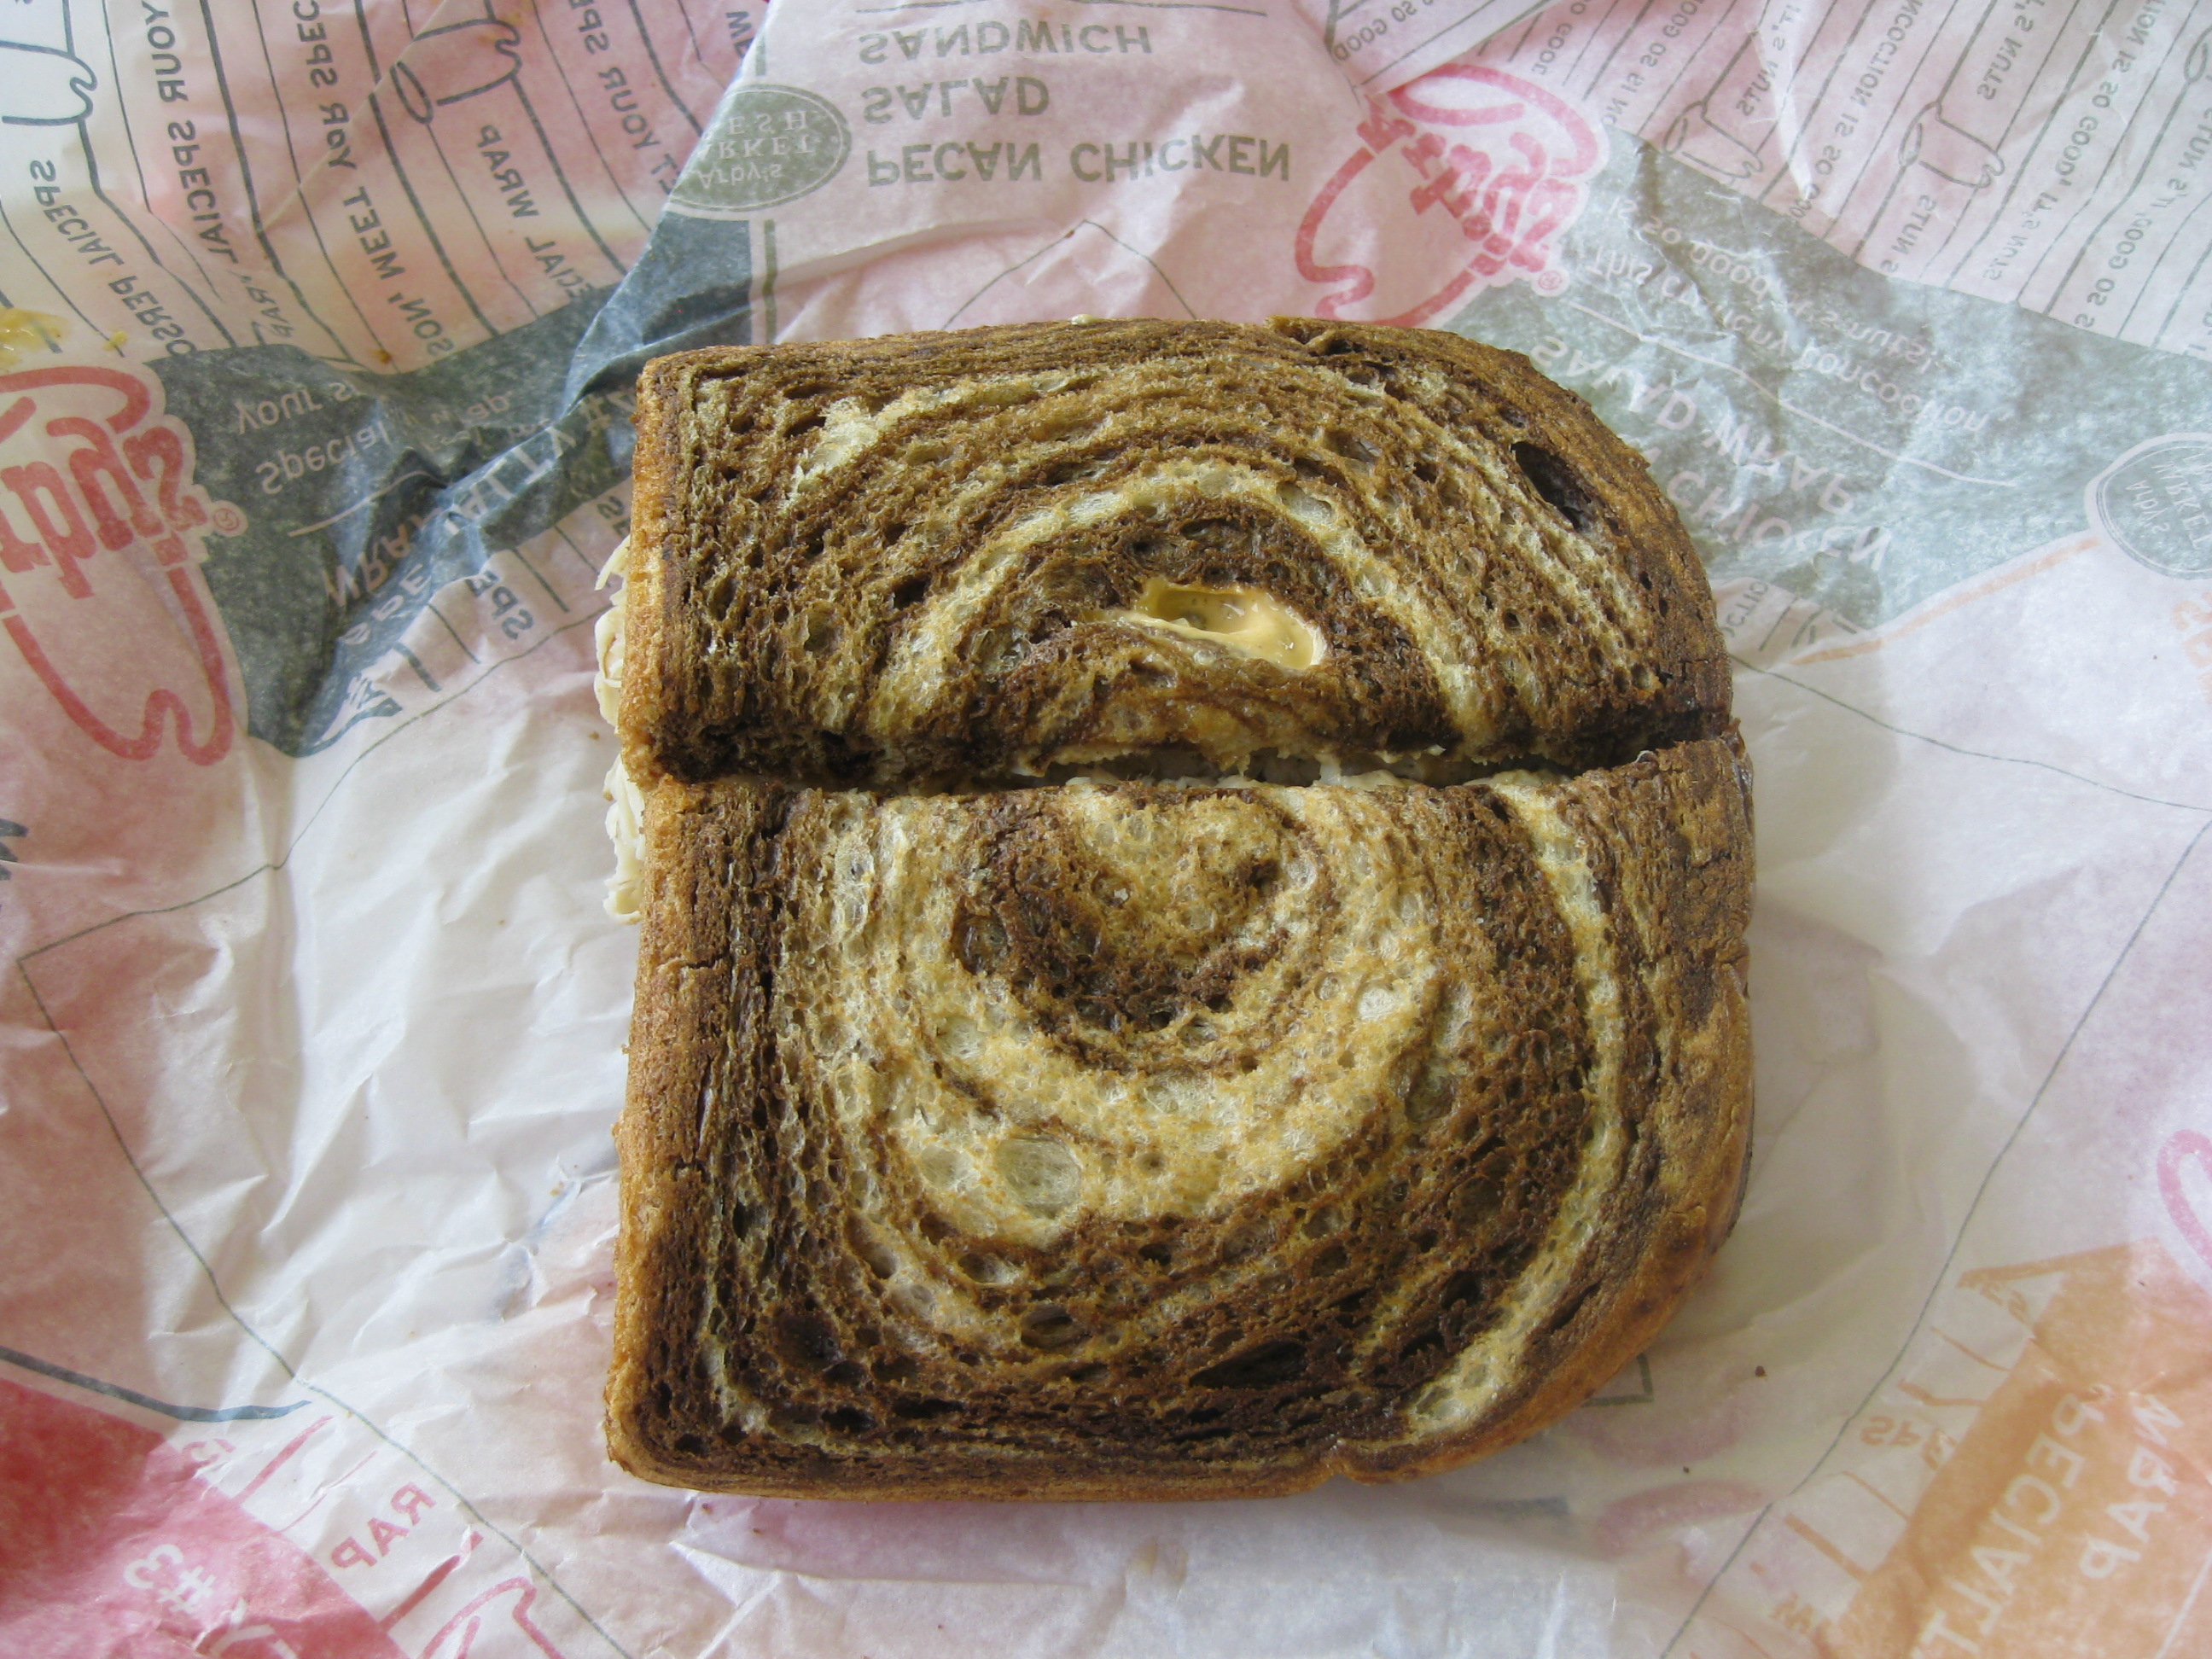sandwich: (575, 326, 1906, 1525)
